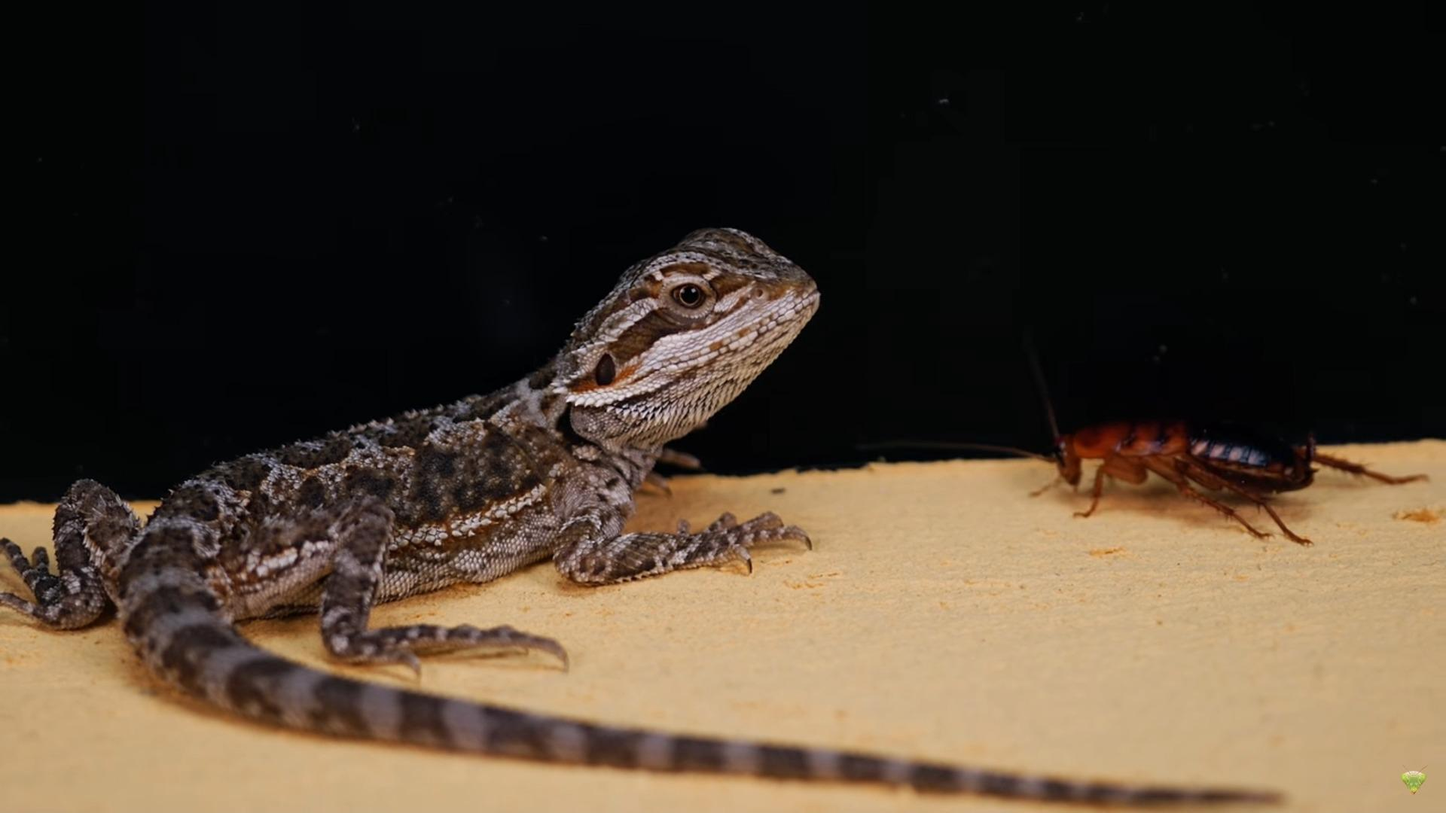cockroach: (1009, 374, 1417, 547)
lizard: (51, 228, 850, 776)
